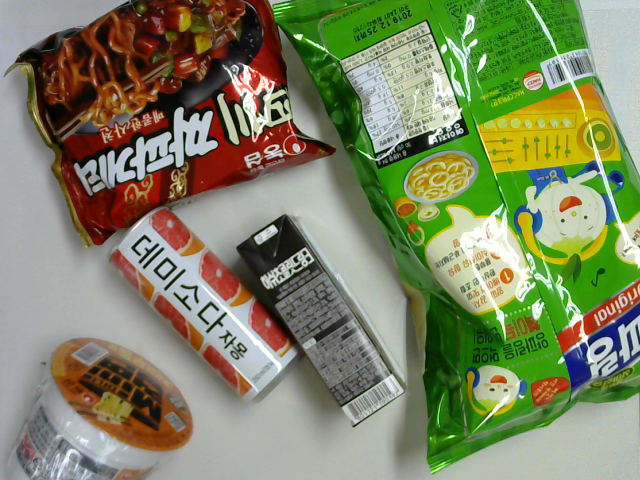Demisoda_Grapefruit_Can_250ml: (107, 203, 308, 410)
Hush_Choco_Drink: (232, 210, 410, 432)
Oninon_Ring: (264, 1, 640, 478)
Sichuan_Chapaghetti: (1, 1, 336, 252)
Udongmini: (2, 335, 198, 480)
